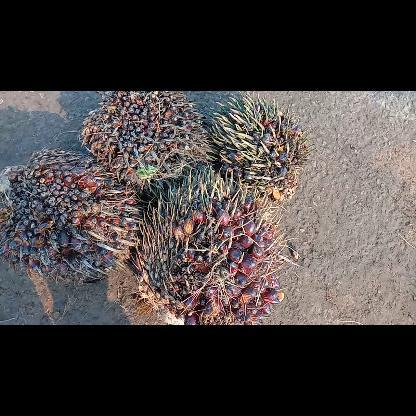TBS abnormal: (0, 143, 144, 284), (77, 92, 215, 192), (204, 95, 316, 205)
TBS masak: (128, 162, 288, 324)
